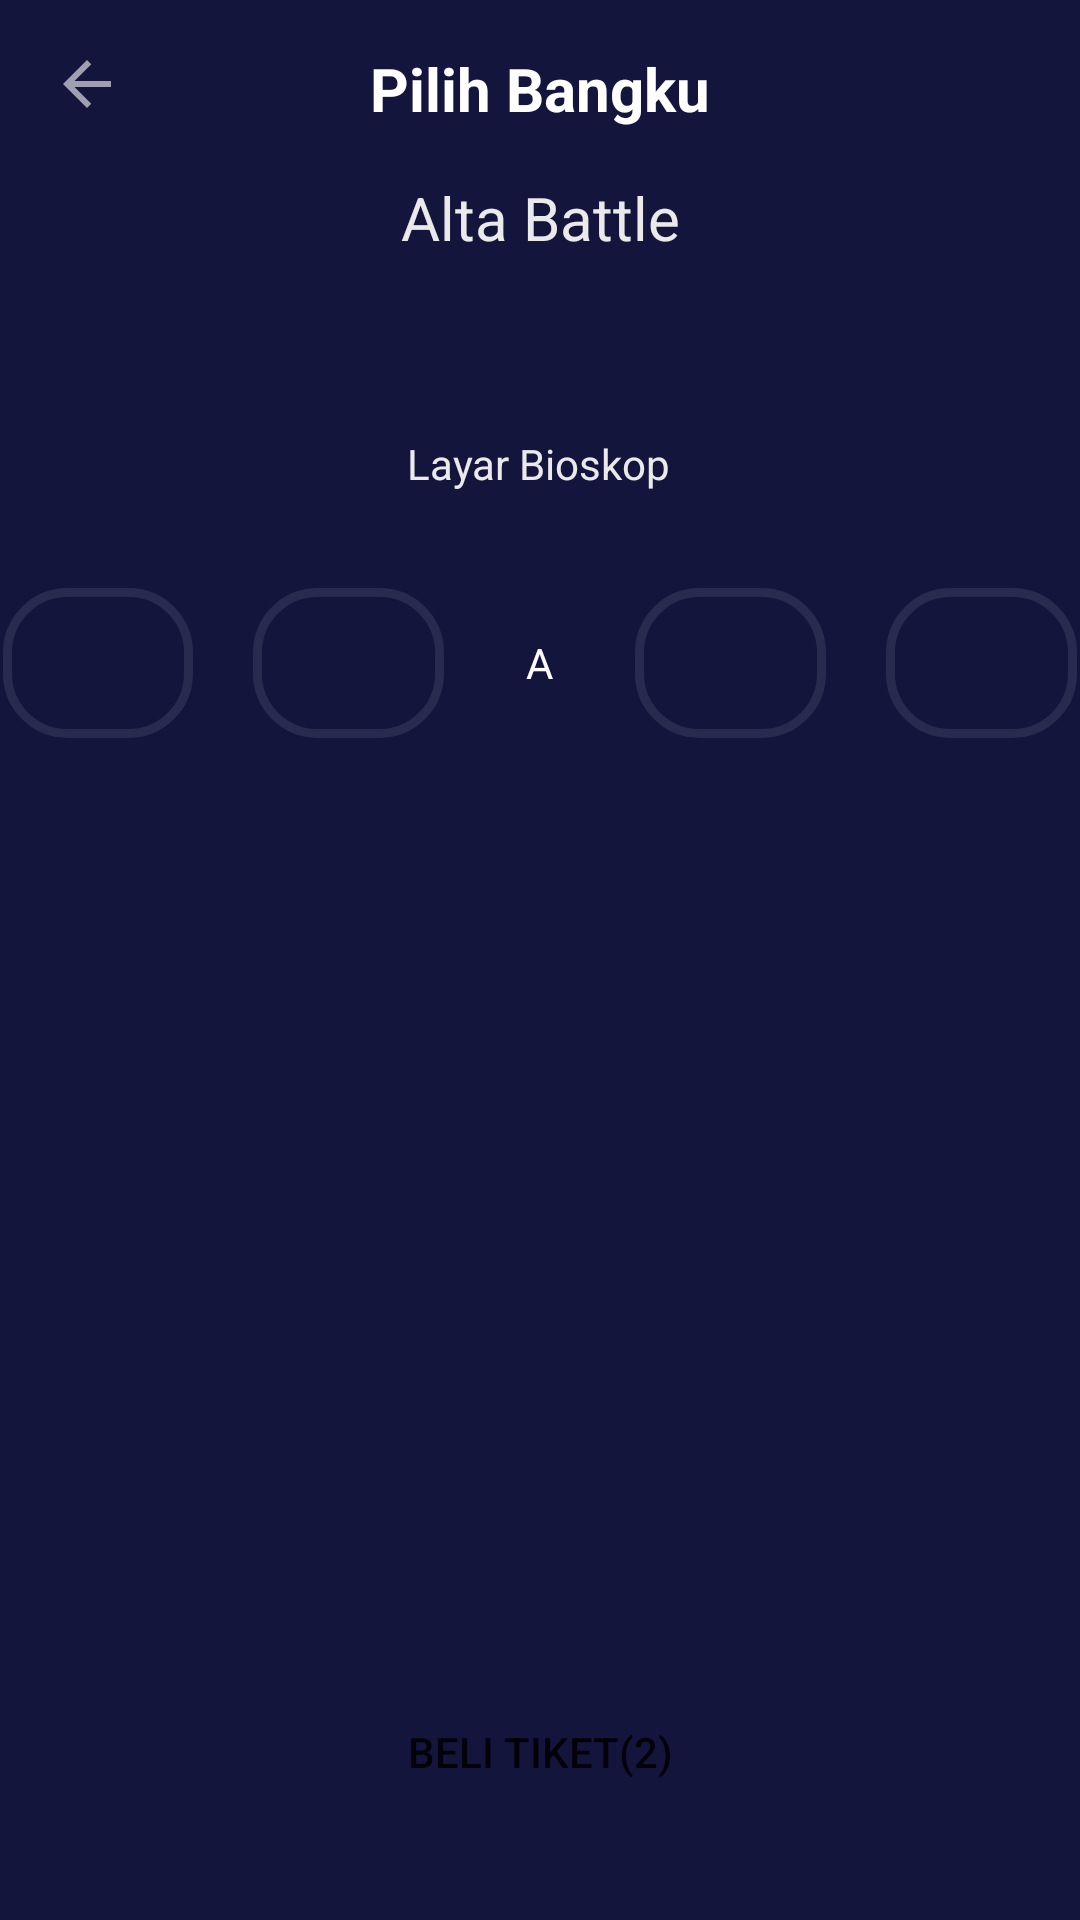

Icon click points for this 1080 x 1920 phone screenshot, format point (x, y):
arrow back: point (87, 84)
